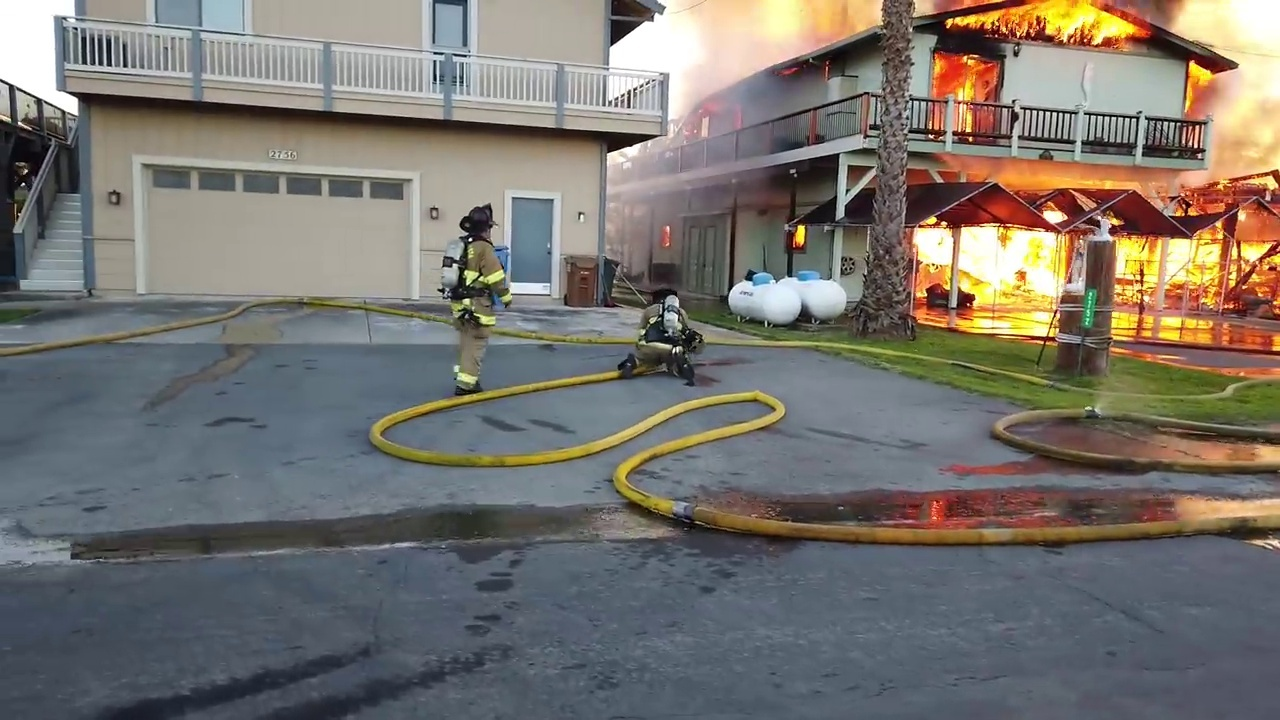fire: (1171, 1, 1280, 309), (909, 225, 1170, 316), (943, 1, 1152, 48), (933, 51, 995, 137), (678, 98, 745, 144), (777, 3, 876, 34), (782, 221, 808, 250), (652, 226, 681, 249), (775, 65, 801, 78), (820, 56, 830, 79)
smoke: (603, 146, 781, 219), (665, 3, 769, 97), (609, 222, 649, 288)
